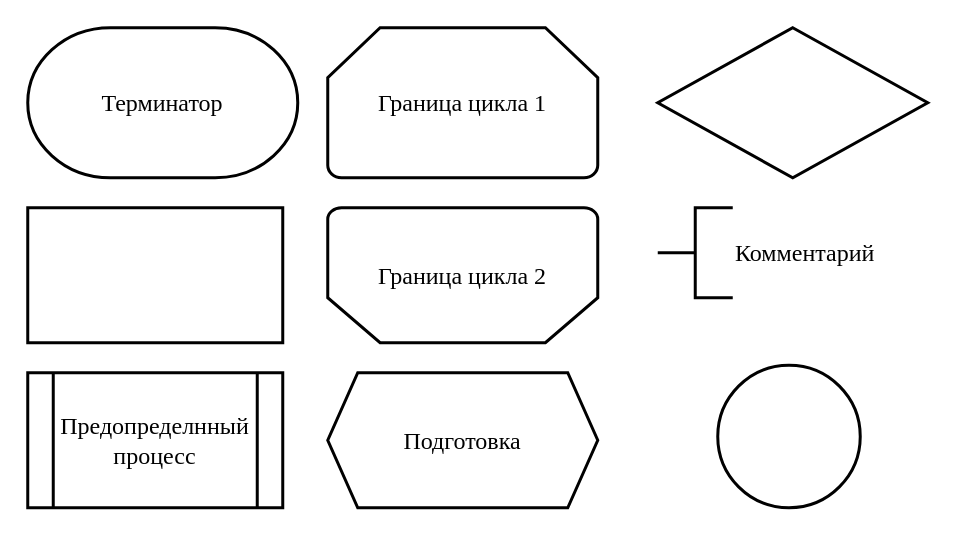
Image size: 954x534. Some labels were removed from this diagram. Here are the shapes that lost their labels. From the top down, the box of each, then its label:
(656, 26, 928, 178): Решение
(26, 206, 284, 344): Процесс
(716, 363, 861, 508): Соеденитель
